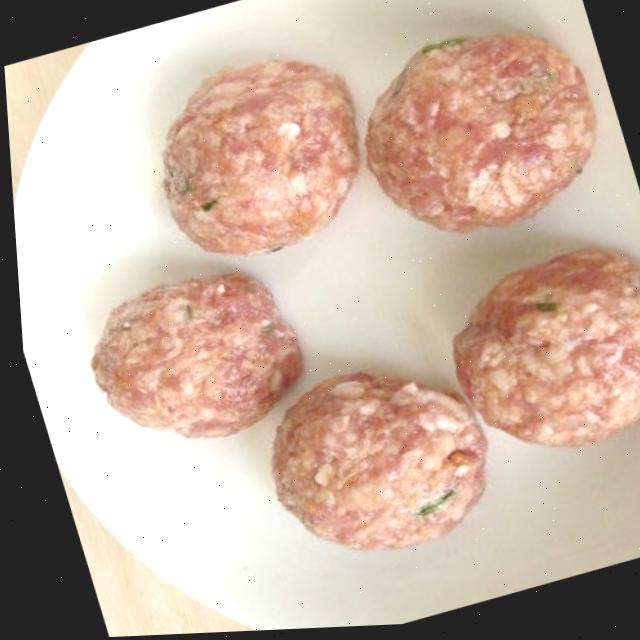猪肉菜式: (7, 0, 640, 640)
